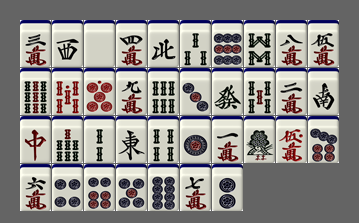0m: (276, 116, 307, 163)
0p: (84, 68, 115, 115)
0s: (52, 68, 83, 115)
1m: (212, 116, 243, 163)
1p: (180, 116, 211, 163)
1s: (244, 116, 275, 163)
1z: (116, 116, 147, 163)
2m: (276, 68, 307, 115)
2p: (212, 164, 243, 211)
2s: (84, 116, 115, 163)
2z: (308, 68, 339, 115)
3m: (20, 20, 51, 67)
3p: (180, 68, 211, 115)
3s: (180, 20, 211, 67)
3z: (52, 20, 83, 67)
4m: (116, 20, 147, 67)
4p: (52, 164, 83, 211)
4s: (148, 116, 179, 163)
4z: (148, 20, 179, 67)
5m: (308, 20, 339, 67)
5p: (116, 164, 147, 211)
5s: (244, 68, 275, 115)
5z: (84, 20, 115, 67)
6m: (20, 164, 51, 211)
6p: (84, 164, 115, 211)
6s: (148, 68, 179, 115)
6z: (212, 68, 243, 115)
7m: (180, 164, 211, 211)
7p: (308, 116, 339, 163)
7s: (52, 116, 83, 163)
7z: (20, 116, 51, 163)
8m: (276, 20, 307, 67)
8p: (148, 164, 179, 211)
8s: (244, 20, 275, 67)
9m: (116, 68, 147, 115)
9p: (212, 20, 243, 67)
9s: (20, 68, 51, 115)
